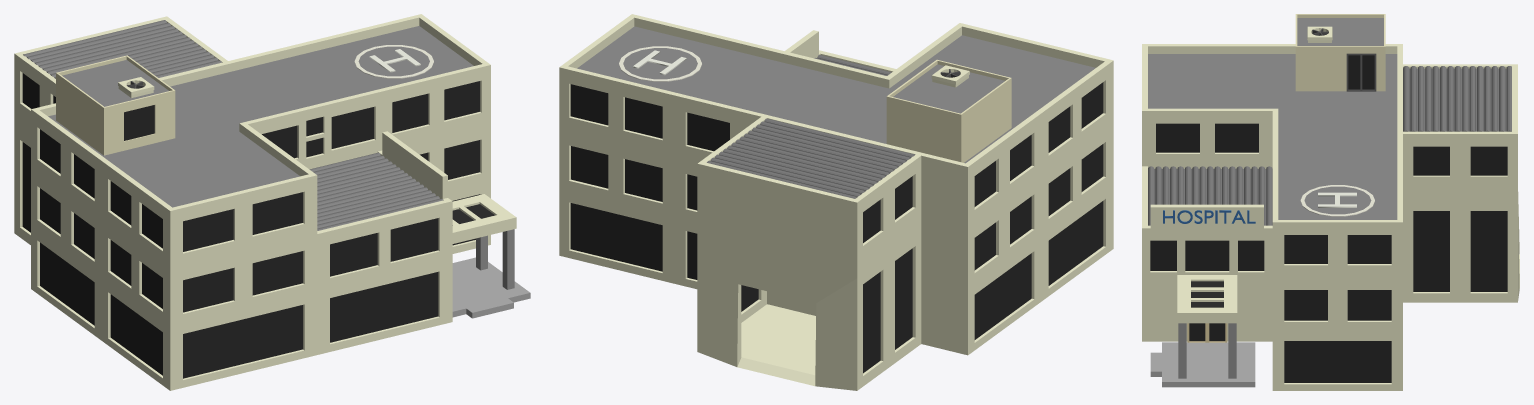
Rendered from home 7.fbx.
3 renders of one model, left to right at view 1: azimuth 30°, elevation 25°; view 2: azimuth 150°, elevation 25°; view 3: azimuth 270°, elevation 25°, orthographic. The views are drawn at different scales.
Parts seen in each view (by area): view 1: Text.003; view 2: Text.003; view 3: Text.003.
Boxes of the visible parts, left/top/right/bottom form: Text.003: left=14, top=14, right=530, bottom=390; Text.003: left=559, top=14, right=1113, bottom=390; Text.003: left=1142, top=14, right=1519, bottom=390.
Size of the model in its own units: 2472 by 1379 by 2210.
2 materials, 2 textured.
